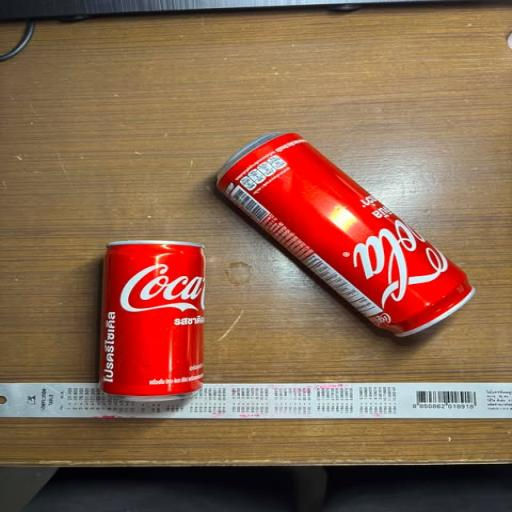canned: (150, 85, 511, 395), (80, 224, 238, 412)
